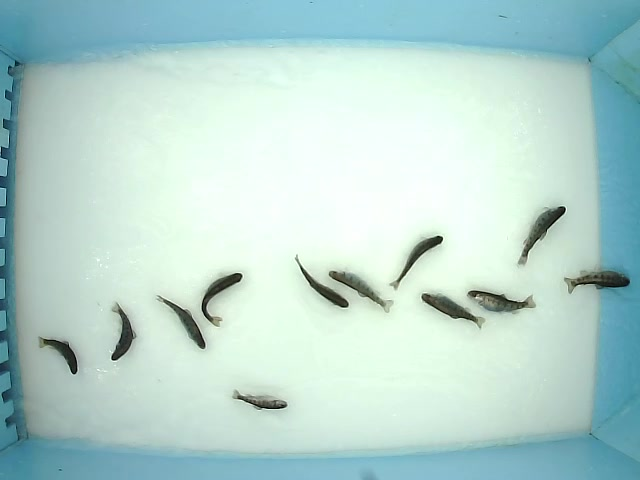fish: (516, 204, 567, 267), (294, 253, 350, 310), (388, 234, 444, 291), (155, 293, 206, 351), (328, 270, 394, 314), (420, 291, 486, 330), (202, 271, 244, 328), (563, 269, 632, 296), (467, 289, 538, 315), (109, 300, 137, 363), (38, 335, 79, 376), (230, 388, 289, 412)
